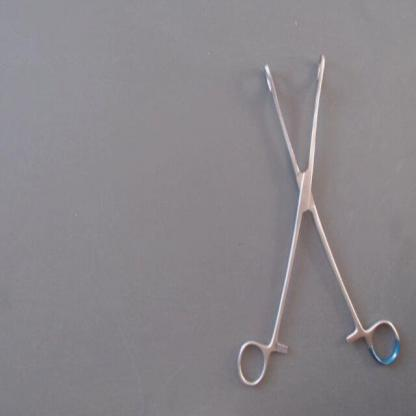Sponge Forceps: (225, 43, 409, 396)
